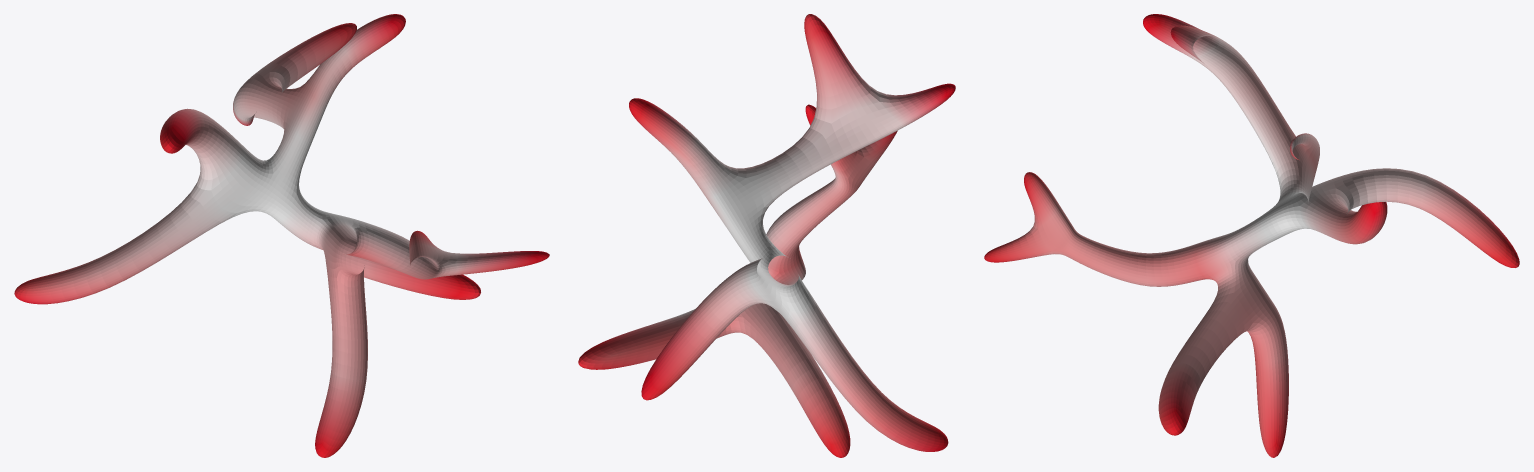
File: branche.glb
3 views of the same model, side by side, from view 1: azimuth 30°, elevation 25°; view 2: azimuth 150°, elevation 25°; view 3: azimuth 270°, elevation 25° (orthographic). The views are drawn at different scales.
Parts seen in each view (by area): view 1: Branches; view 2: Branches; view 3: Branches.
Part boxes in pixels (x1,y1,x2,y2): Branches: (14,14,549,457); Branches: (578,14,955,457); Branches: (984,14,1519,457).
Bounding box in the file's own units: 9.63 × 9.5 × 10.96.
